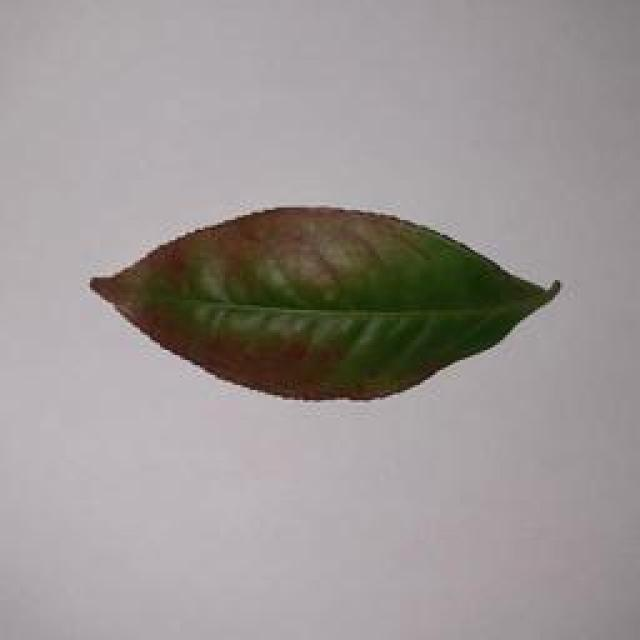Red Leaf Spot: (94, 218, 595, 412)
